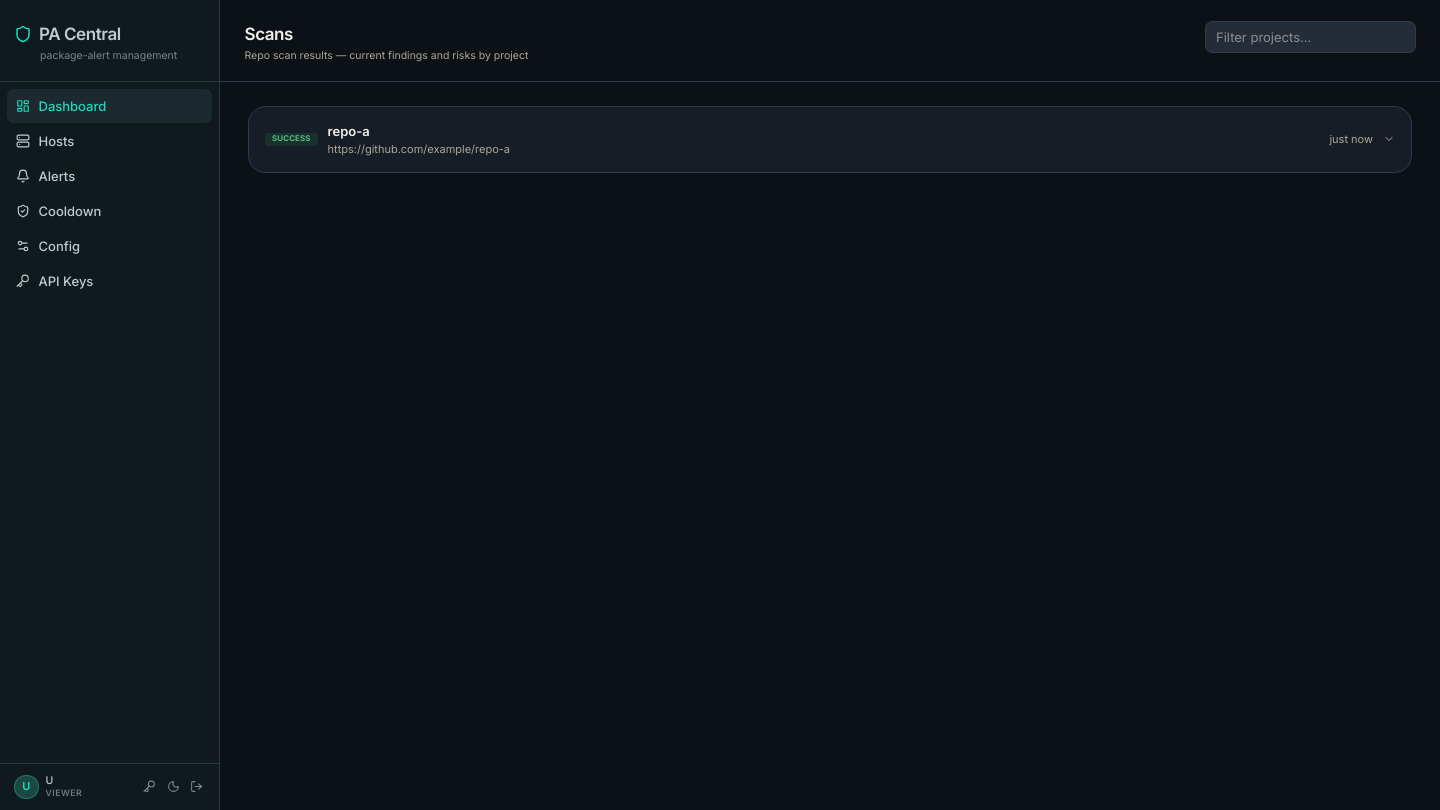
Test: Scans page — project-grouped repo scans › a headline with no open findings or risks is still expandable and loads accepted-only records
Click the button "success repo-a https://github.com/example/repo-a just now". click: (291, 139)
box: [265,123,1395,156]
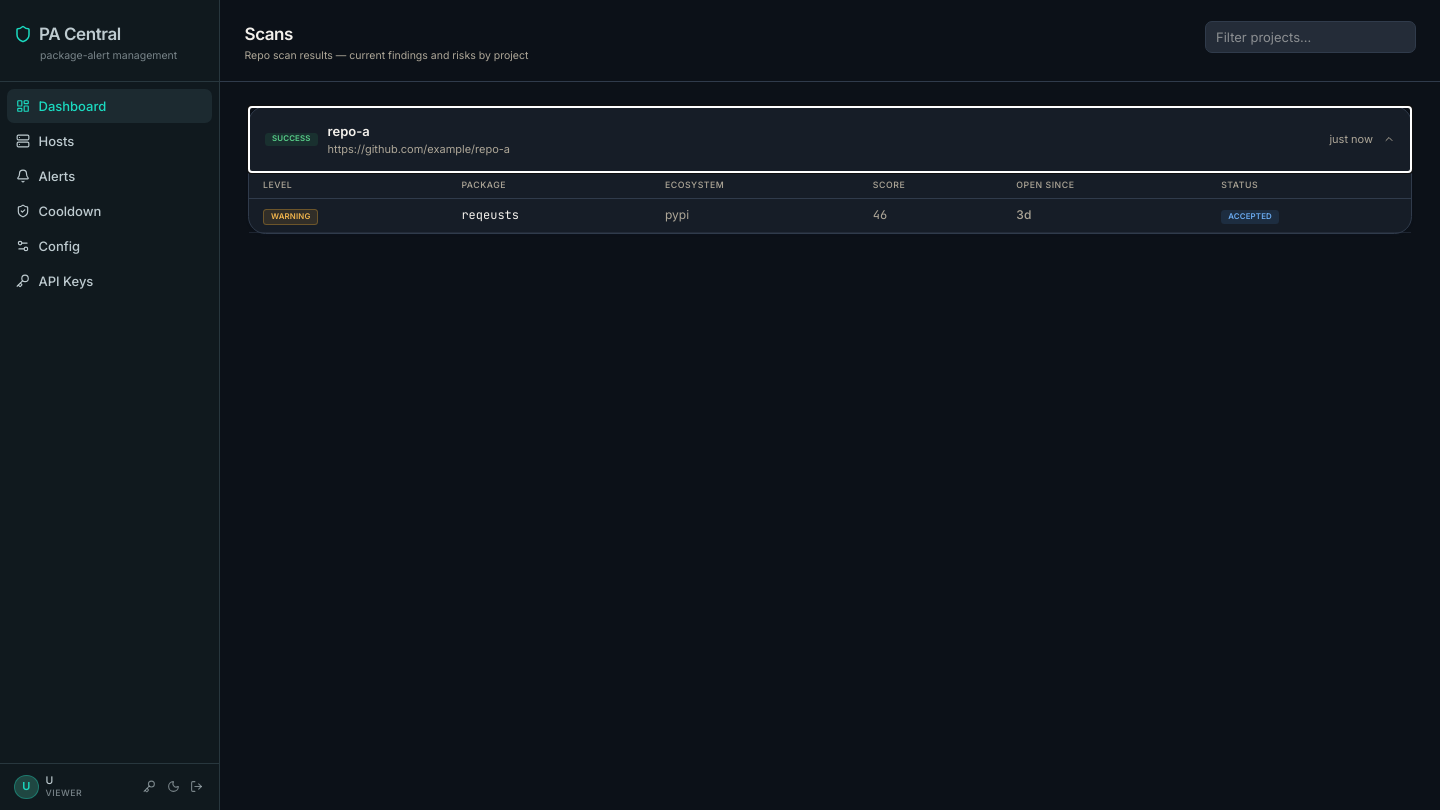
Check: the text "reqeusts" is shown, box [447,199,651,232]
